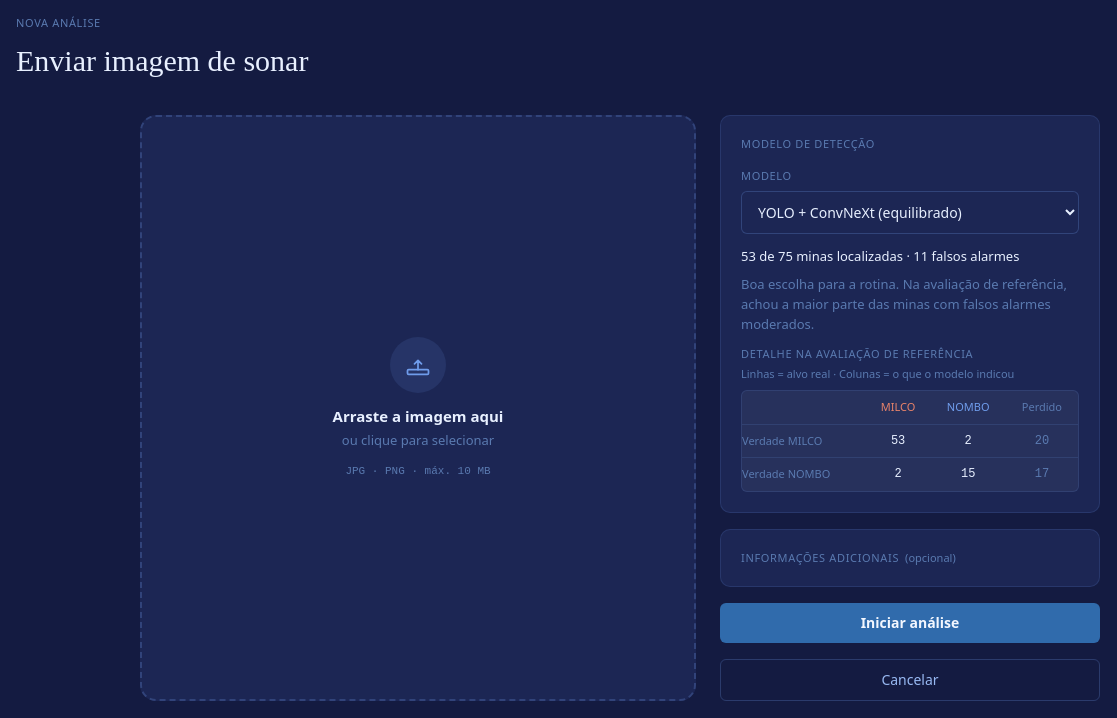
NovaAnalisePage › shows fusion v3 benchmark and confusion matrix when selected
Select "YOLO A + fusão ConvNeXt/EdgeNeXt (v3)" in the dropdown labelled "Modelo" at (910, 212), box x1=741 y1=190 x2=1079 y2=234
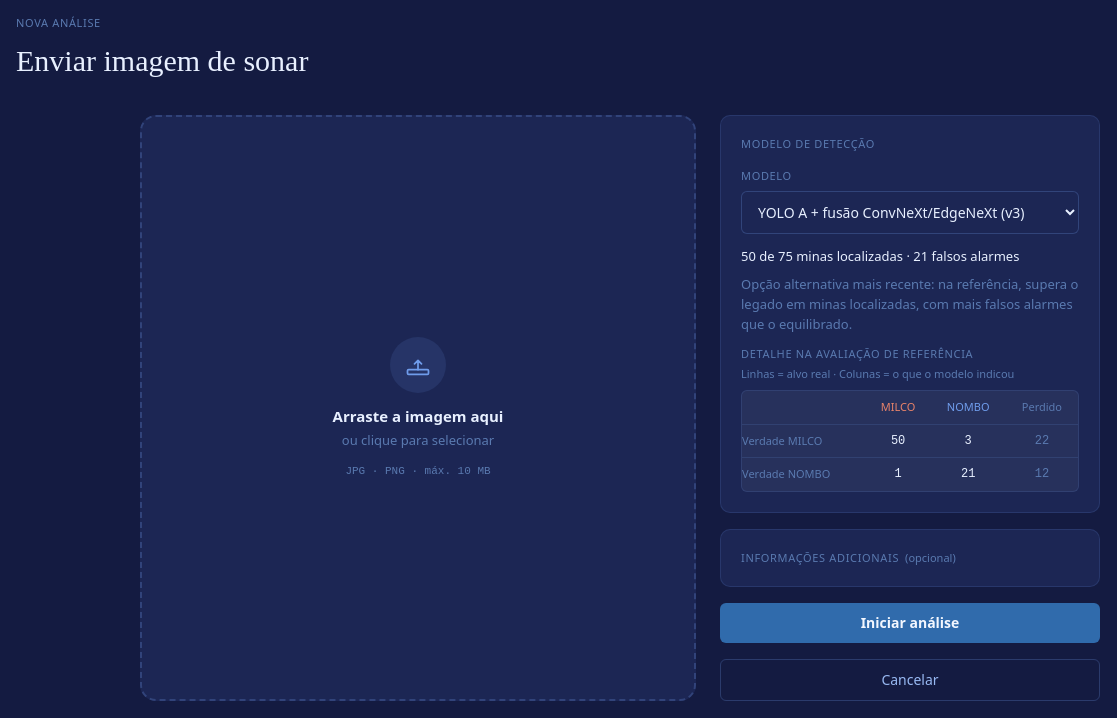
Check: the text "Detalhe na avaliação de referência" is shown, box x1=741 y1=346 x2=973 y2=360
Check: the text "50 de 75 minas localizadas · 21 falsos alarmes" is shown, box x1=741 y1=246 x2=1019 y2=264
